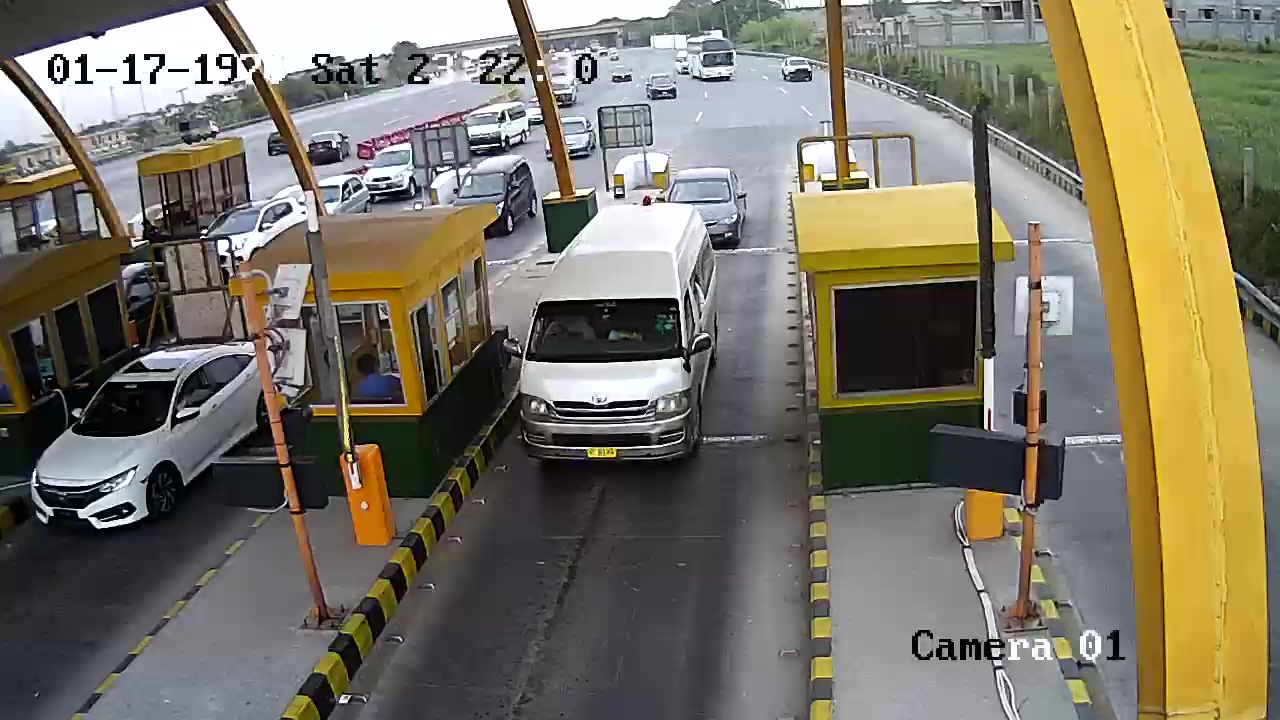F2: (508, 198, 726, 486)
